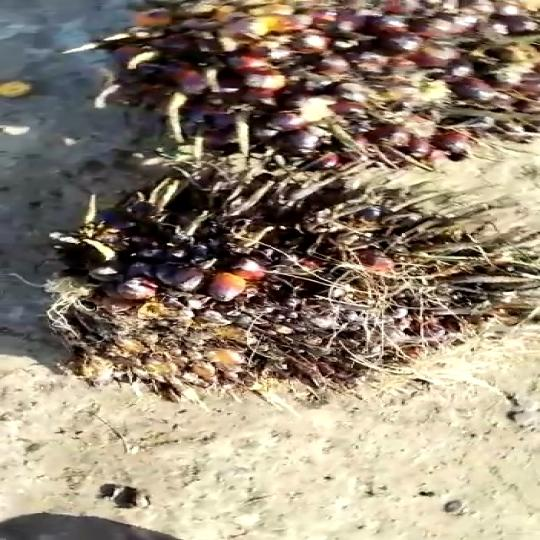terlalu masak: (22, 154, 540, 401)
